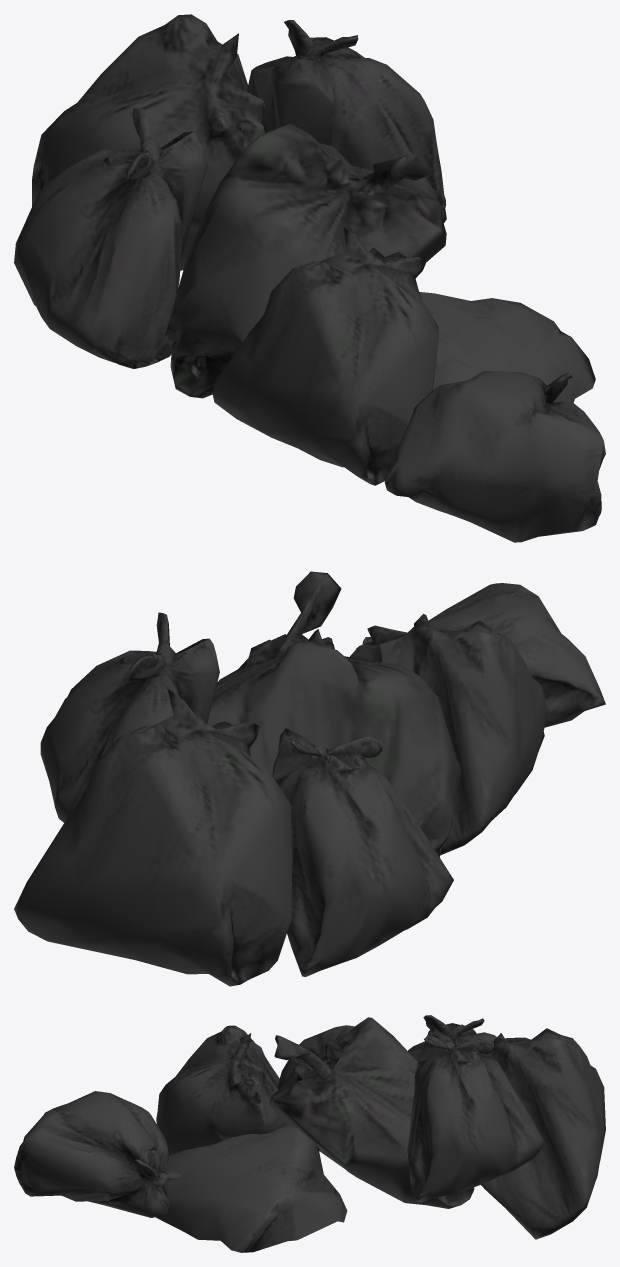
The model's file is sm20_005_garbagebags02a.fbx.
3 views of the same model, one above another, from view 1: azimuth 30°, elevation 25°; view 2: azimuth 150°, elevation 25°; view 3: azimuth 270°, elevation 25° (orthographic). The views are drawn at different scales.
Visible parts, largest first — view 1: LOD_1_Group_0_Sub_1__sm20_005_GarbageBags02A_A_Mat; view 2: LOD_1_Group_0_Sub_1__sm20_005_GarbageBags02A_A_Mat; view 3: LOD_1_Group_0_Sub_1__sm20_005_GarbageBags02A_A_Mat.
Part boxes in pixels (x1=…): LOD_1_Group_0_Sub_1__sm20_005_GarbageBags02A_A_Mat: x1=14, y1=14, x2=605, y2=542; LOD_1_Group_0_Sub_1__sm20_005_GarbageBags02A_A_Mat: x1=14, y1=571, x2=605, y2=986; LOD_1_Group_0_Sub_1__sm20_005_GarbageBags02A_A_Mat: x1=14, y1=1015, x2=605, y2=1252.
Size of the model in its own units: 1.38 by 0.9567 by 2.63.
